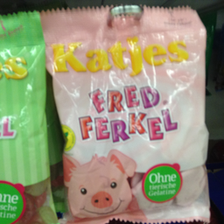candy: (41, 5, 210, 224)
